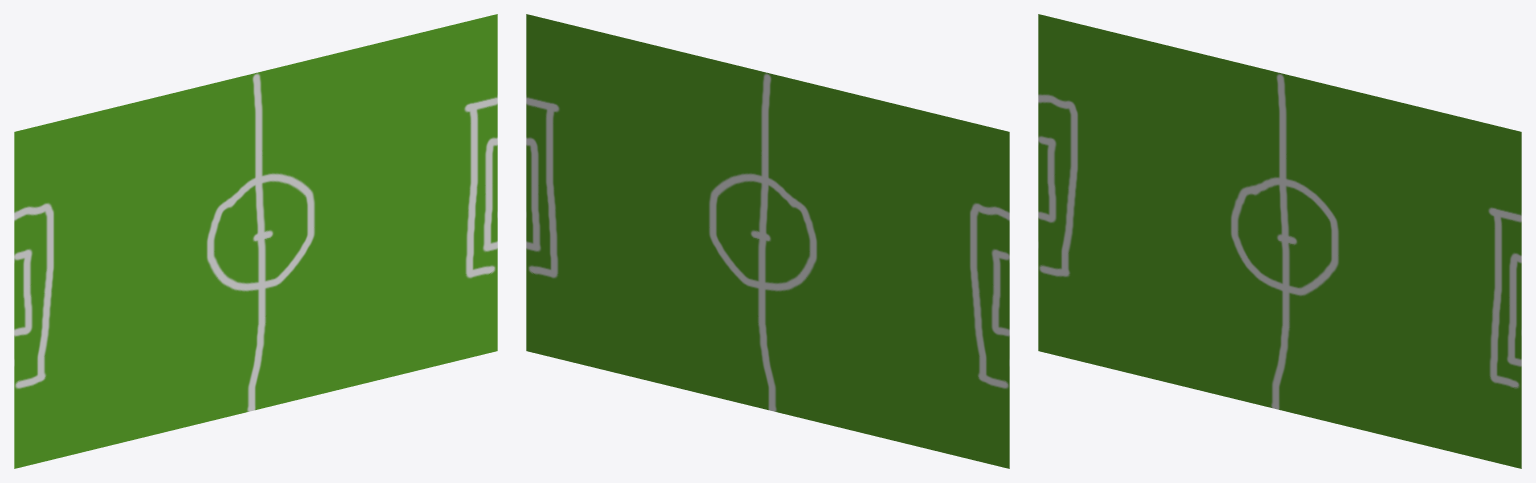
File: spl_field.glb
3 renders of one model, left to right at view 1: azimuth 30°, elevation 25°; view 2: azimuth 150°, elevation 25°; view 3: azimuth 330°, elevation 25°, orthographic.
Parts seen in each view (by area): view 1: Plane; view 2: Plane; view 3: Plane.
Boxes of the visible parts, x1,y1,x2,y2 form: Plane: (14,14,497,468); Plane: (526,14,1009,468); Plane: (1038,14,1521,468).
Size of the model in its own units: 9 by 6 by 0.
1 material, 1 textured.
